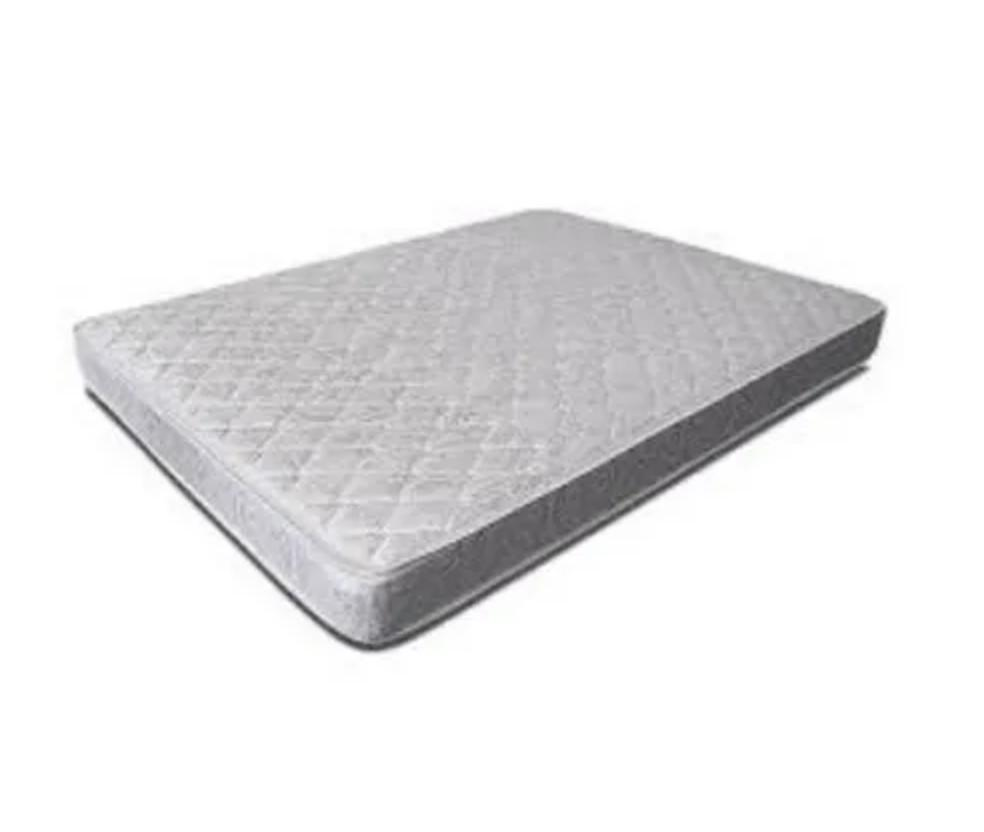Bed-Mattress: (67, 200, 897, 674)
